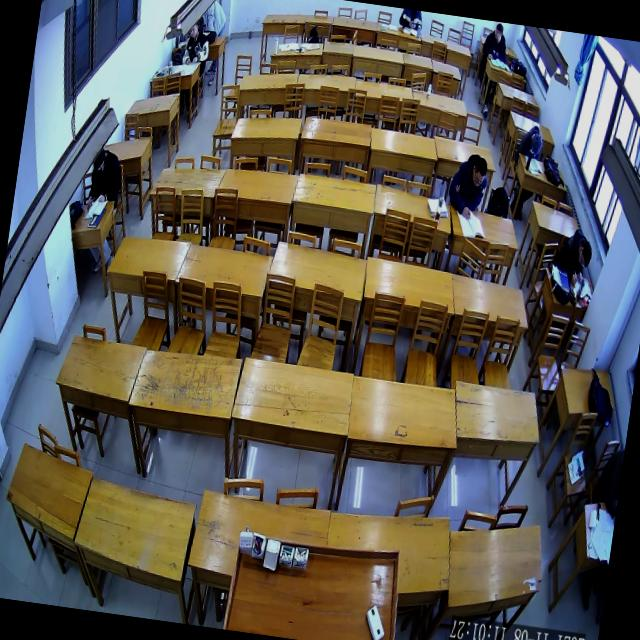down: (470, 156, 490, 191), (576, 240, 594, 272), (91, 146, 108, 176), (528, 132, 544, 158)
lookup: (188, 20, 200, 40)
sit: (443, 150, 492, 224), (550, 224, 596, 290), (85, 144, 127, 215), (180, 16, 214, 70), (481, 21, 511, 63), (515, 122, 546, 160)
